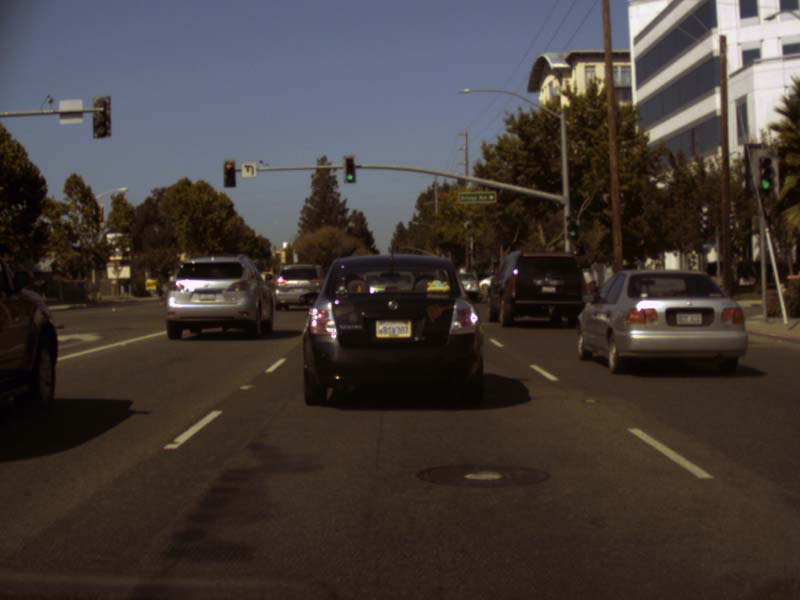Green: (758, 157, 774, 192), (345, 158, 355, 182), (566, 216, 576, 239)
Red: (223, 160, 235, 186)
